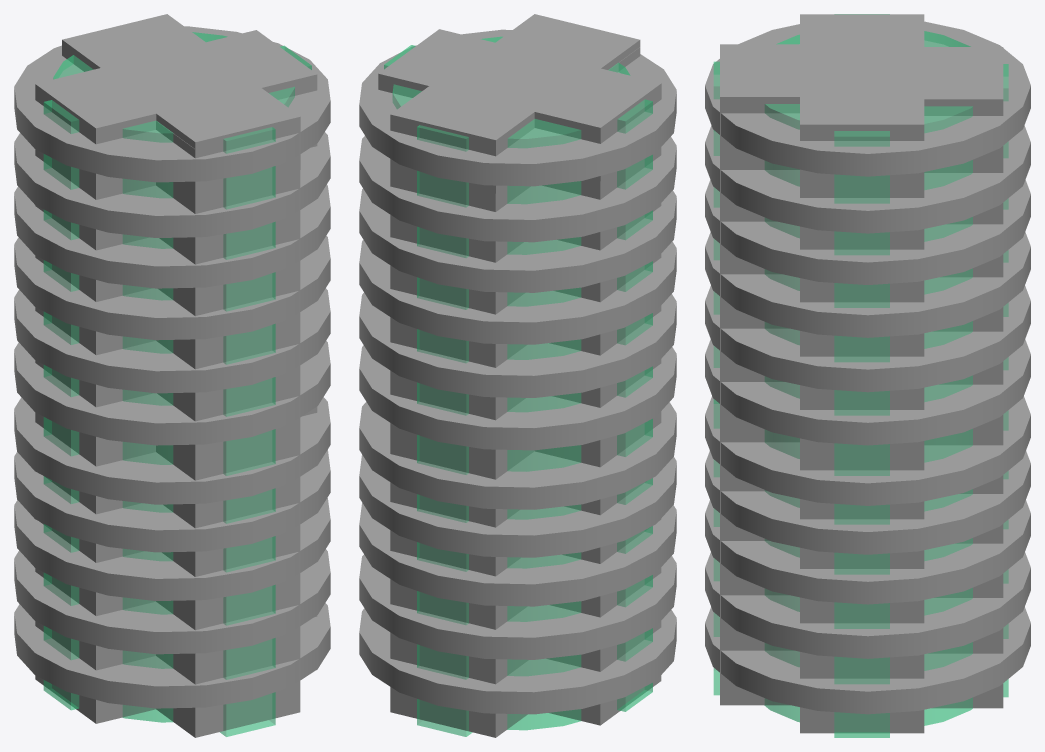
Rendered from Roundbuilding.fbx.
3 views of the same model, side by side, from view 1: azimuth 30°, elevation 25°; view 2: azimuth 150°, elevation 25°; view 3: azimuth 270°, elevation 25° (orthographic). The views are drawn at different scales.
Parts seen in each view (by area): view 1: pCylinder15; view 2: pCylinder15; view 3: pCylinder15.
Part boxes in pixels (<box>): pCylinder15: <box>14,14,330,737</box>; pCylinder15: <box>359,14,676,737</box>; pCylinder15: <box>705,14,1030,737</box>.
Size of the model in its own units: 2.61 by 5.44 by 2.63.
